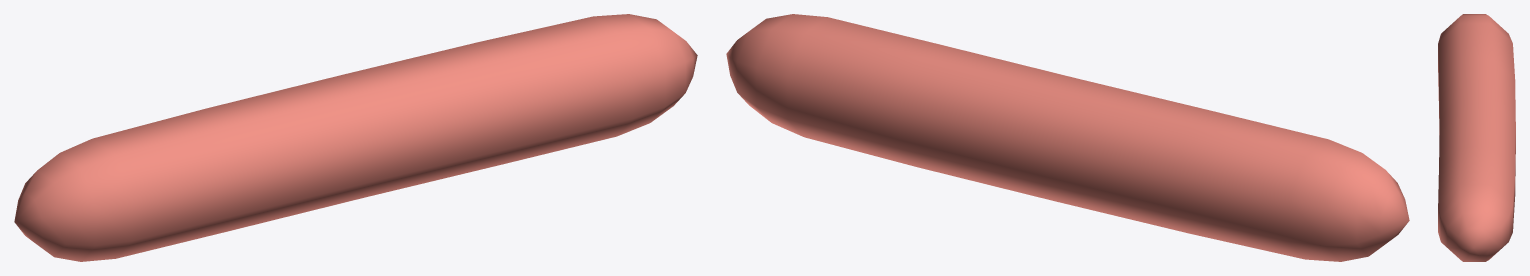
Rendered from salchicha.glb.
3 renders of one model, left to right at view 1: azimuth 30°, elevation 25°; view 2: azimuth 150°, elevation 25°; view 3: azimuth 270°, elevation 25°, orthographic. The views are drawn at different scales.
Parts seen in each view (by area): view 1: pieza_salchicha; view 2: pieza_salchicha; view 3: pieza_salchicha.
Boxes of the visible parts, left/top/right/bottom form: pieza_salchicha: left=14, top=14, right=697, bottom=261; pieza_salchicha: left=726, top=14, right=1409, bottom=261; pieza_salchicha: left=1438, top=14, right=1515, bottom=261.
Size of the model in its own units: 0.15 by 0.022 by 0.0224.
